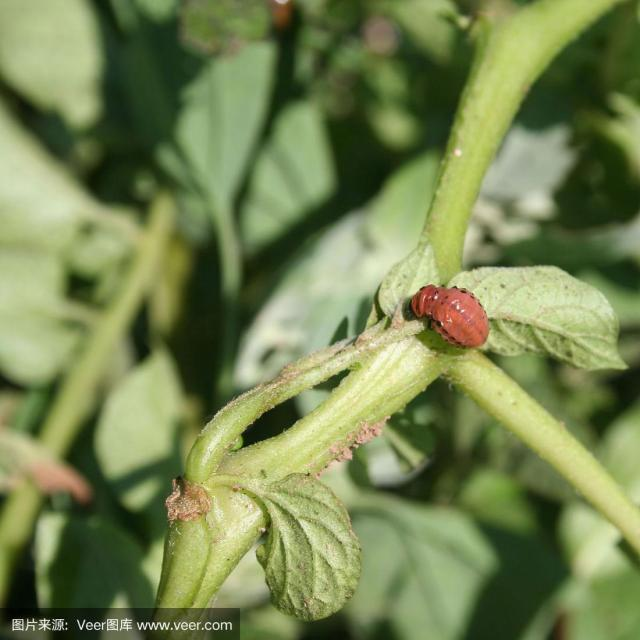ShuCaiHuaBanChong-Larva-: (389, 266, 501, 358)
